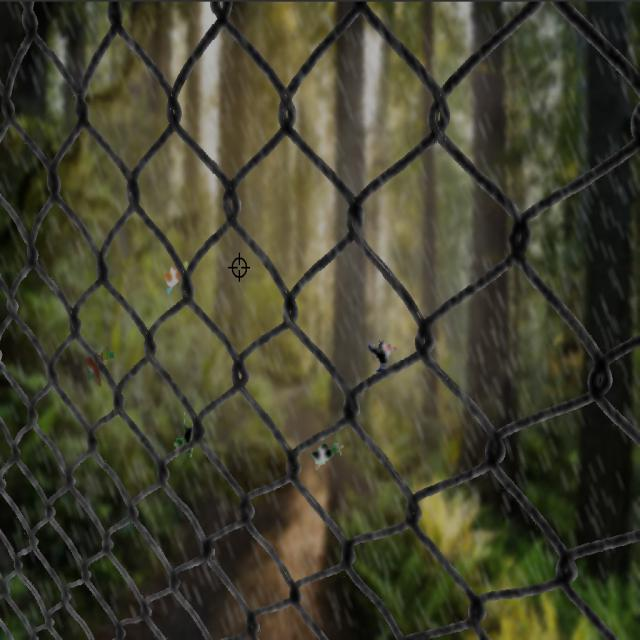duck: (83, 350, 118, 391), (305, 440, 349, 472), (158, 256, 196, 293), (368, 342, 396, 384)
falling_duck: (172, 412, 200, 458)
